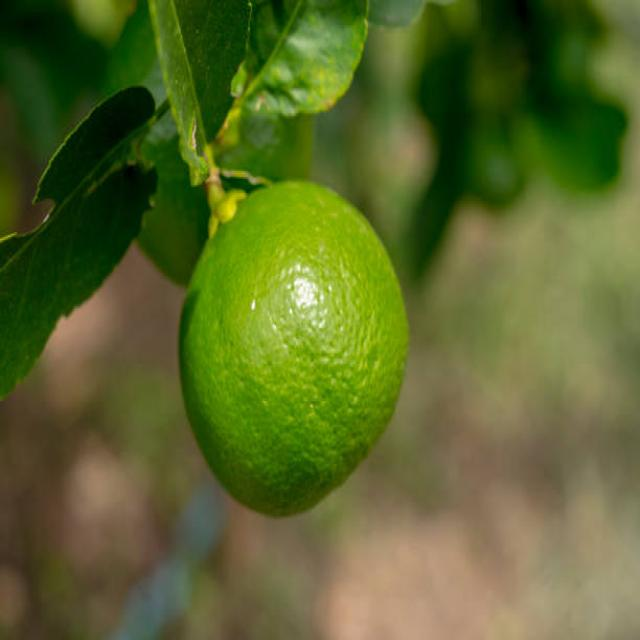Unripe: (176, 178, 410, 517)
